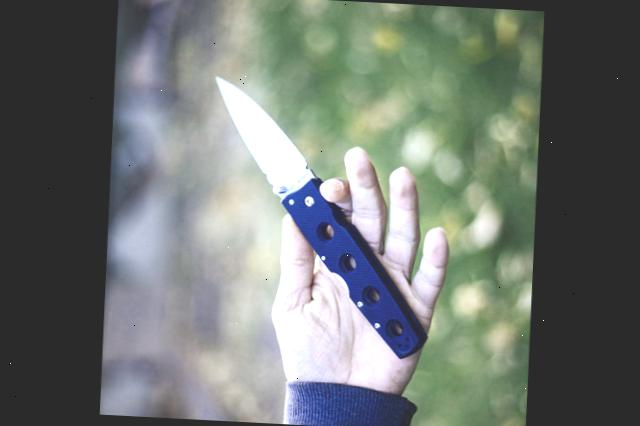pocket-knife: (192, 67, 427, 308)
